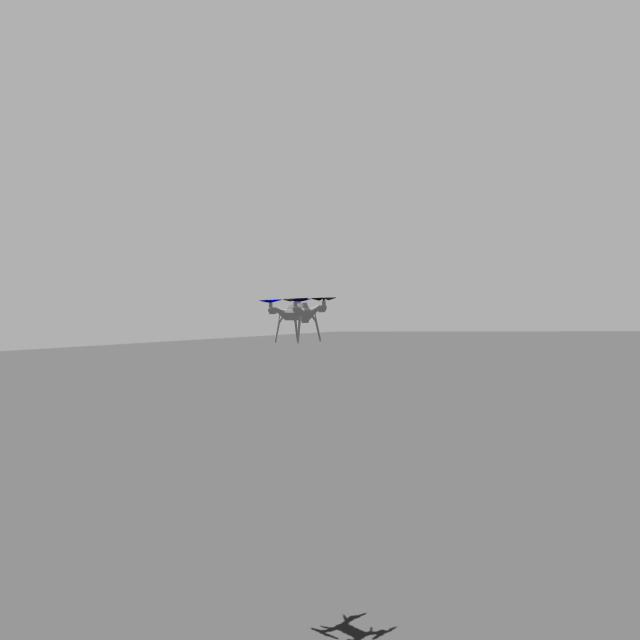Drone: (258, 279, 334, 349)
